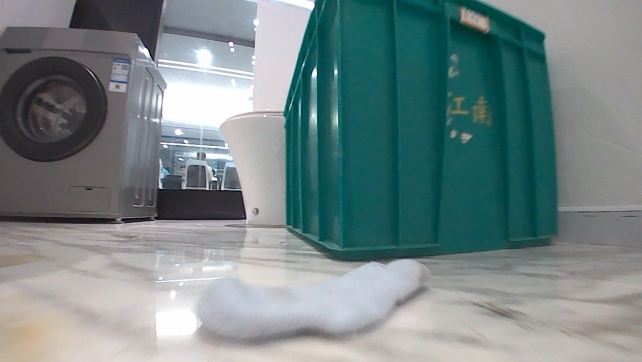socks: (195, 255, 429, 340)
toilet: (217, 105, 290, 230)
washing_machine: (0, 22, 168, 224)
